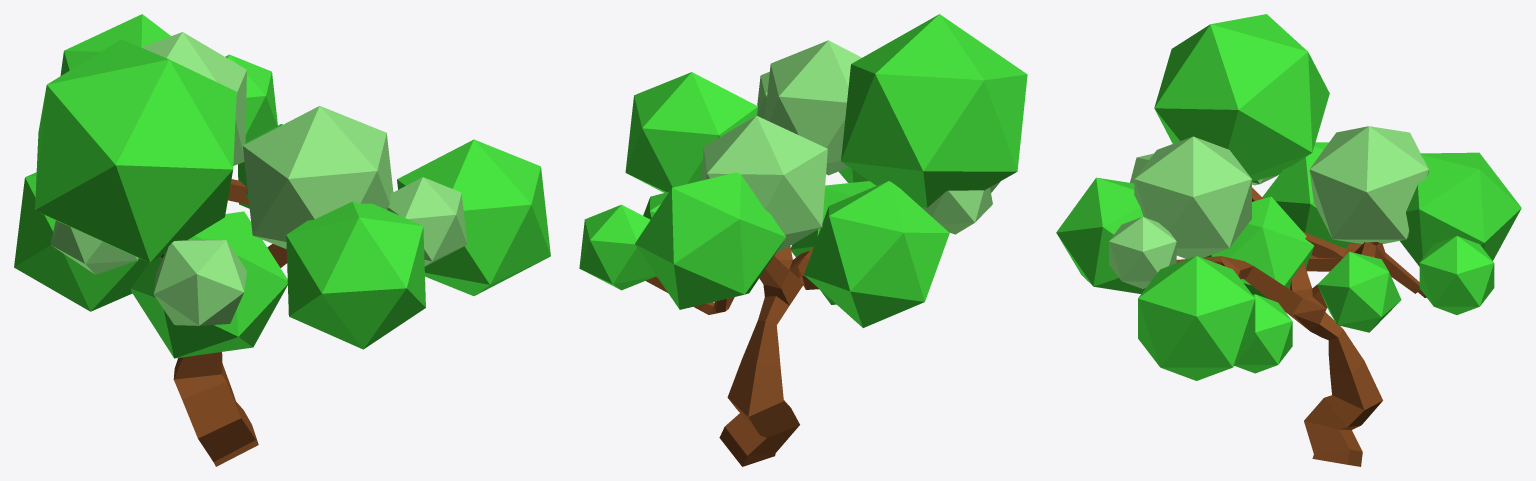
File: Tree.gltf
3 views of the same model, side by side, from view 1: azimuth 30°, elevation 25°; view 2: azimuth 150°, elevation 25°; view 3: azimuth 270°, elevation 25° (orthographic). The views are drawn at different scales.
Parts seen in each view (by area): view 1: Icosphere.004, Icosphere.013, Icosphere.011, TREE, Icosphere.006, Icosphere.007, Cube, Icosphere.003, Icosphere.012, Icosphere.002, Icosphere.005, Icosphere.001 (+1 smaller); view 2: Icosphere.004, Icosphere.003, Icosphere.001, Cube, TREE, Icosphere.002, Icosphere.011, Icosphere, Icosphere.005, Icosphere.006; view 3: Icosphere.004, Cube, TREE, Icosphere.002, Icosphere.011, Icosphere.001, Icosphere.013, Icosphere.006, Icosphere, Icosphere.008, Icosphere.012, Icosphere.003 (+1 smaller).
Part boxes in pixels (<box>): Icosphere.004: <box>35,39,236,262</box>; Icosphere.013: <box>286,201,425,349</box>; Icosphere.011: <box>242,106,393,248</box>; TREE: <box>397,139,550,295</box>; Icosphere.006: <box>131,211,287,358</box>; Icosphere.007: <box>153,239,246,325</box>; Cube: <box>161,179,286,466</box>; Icosphere.003: <box>14,172,148,311</box>; Icosphere.012: <box>387,177,467,266</box>; Icosphere.002: <box>141,32,246,165</box>; Icosphere.005: <box>50,220,137,274</box>; Icosphere.001: <box>60,14,170,75</box>; Icosphere.004: <box>841,14,1027,207</box>; Icosphere.003: <box>804,181,949,327</box>; Icosphere.001: <box>635,172,785,309</box>; Cube: <box>645,246,819,466</box>; TREE: <box>625,72,757,192</box>; Icosphere.002: <box>701,115,827,254</box>; Icosphere.011: <box>764,40,861,175</box>; Icosphere: <box>579,204,656,290</box>; Icosphere.005: <box>921,187,992,234</box>; Icosphere.006: <box>791,181,876,304</box>; Icosphere.004: <box>1154,14,1329,181</box>; Cube: <box>1176,187,1426,466</box>; TREE: <box>1138,256,1255,380</box>; Icosphere.002: <box>1309,126,1429,243</box>; Icosphere.011: <box>1134,136,1251,258</box>; Icosphere.001: <box>1400,152,1521,266</box>; Icosphere.013: <box>1056,177,1145,293</box>; Icosphere.006: <box>1204,196,1314,298</box>; Icosphere: <box>1419,236,1494,314</box>; Icosphere.008: <box>1317,251,1401,332</box>; Icosphere.012: <box>1109,217,1176,288</box>; Icosphere.003: <box>1262,142,1361,248</box>.
Bounding box in the file's own units: 25.07 × 24.65 × 26.65.
